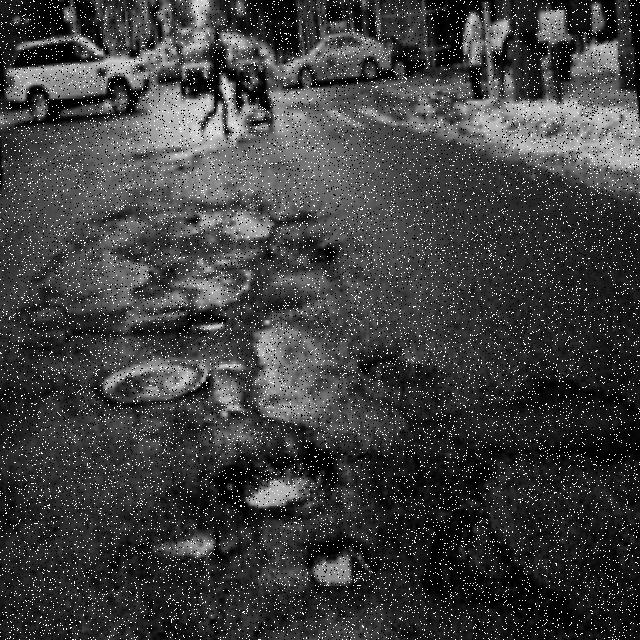pothole: (431, 489, 570, 620), (214, 448, 339, 511), (306, 540, 378, 591), (361, 358, 417, 382)
